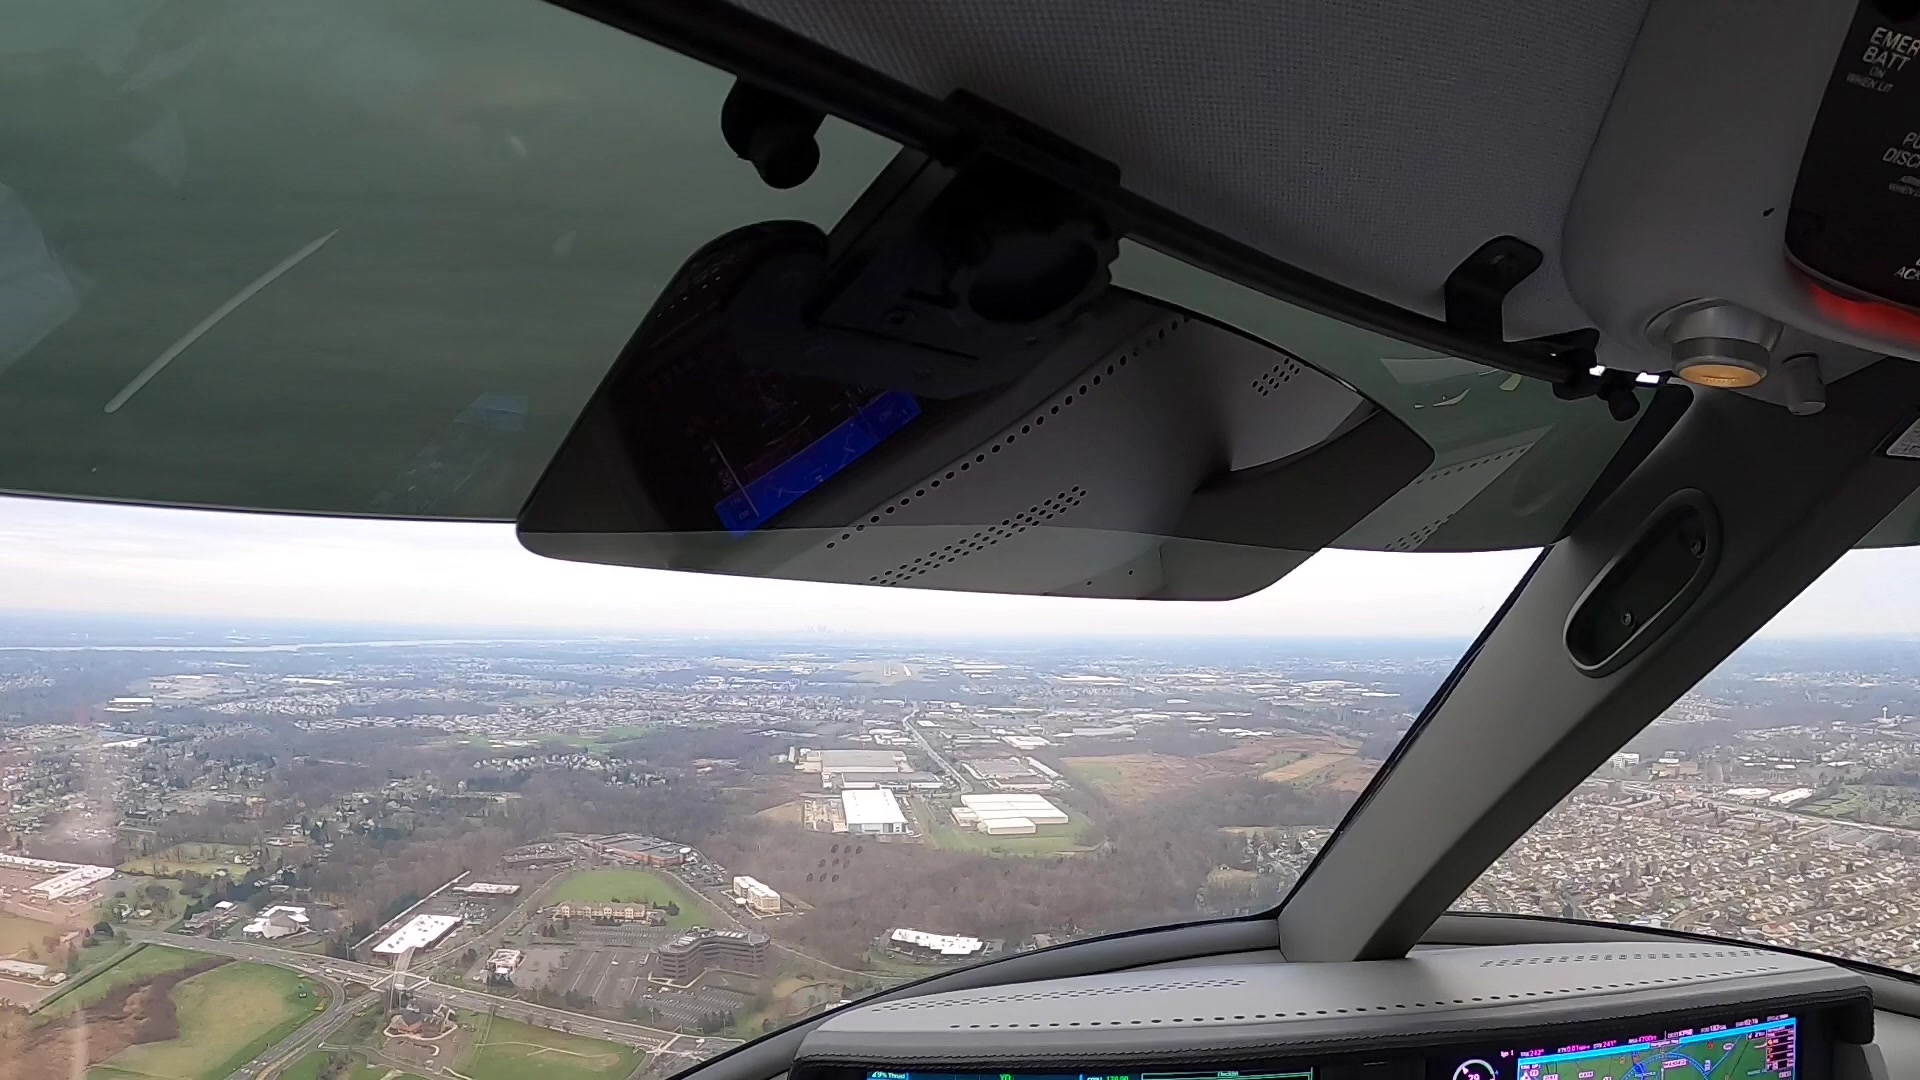runway: (880, 659, 891, 678)
